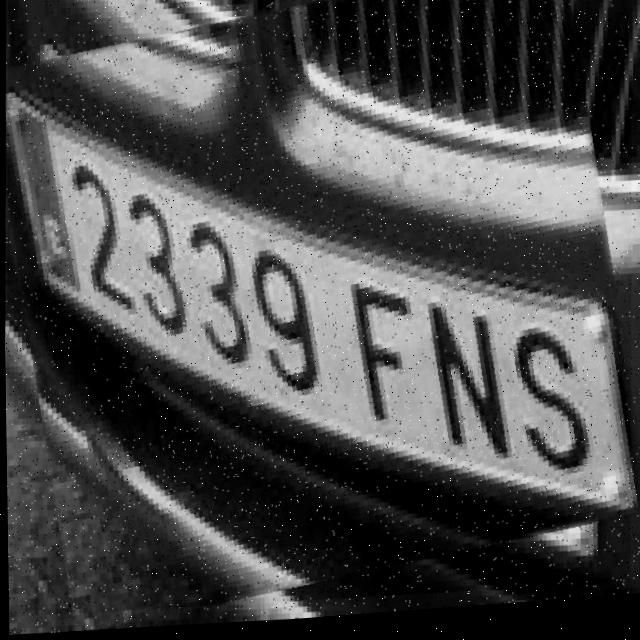LicensePlate: (0, 0, 638, 627)
